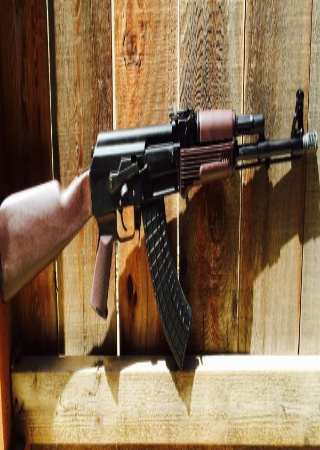rifle: (2, 88, 320, 370)
